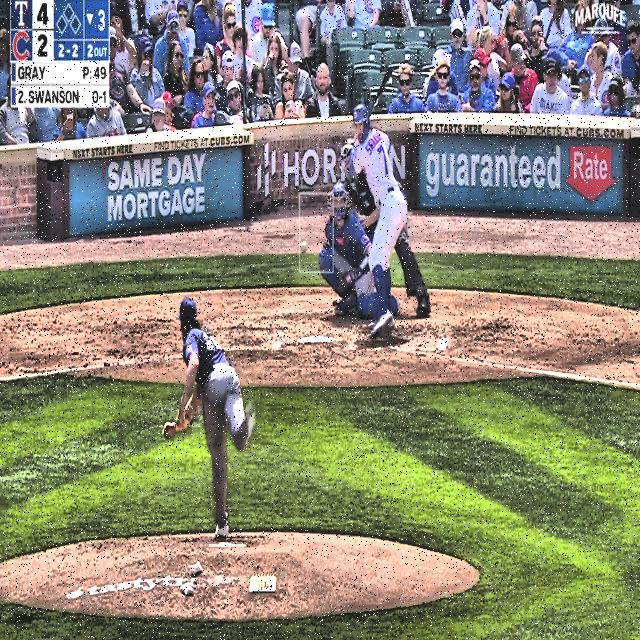baseball: (300, 242, 308, 254)
